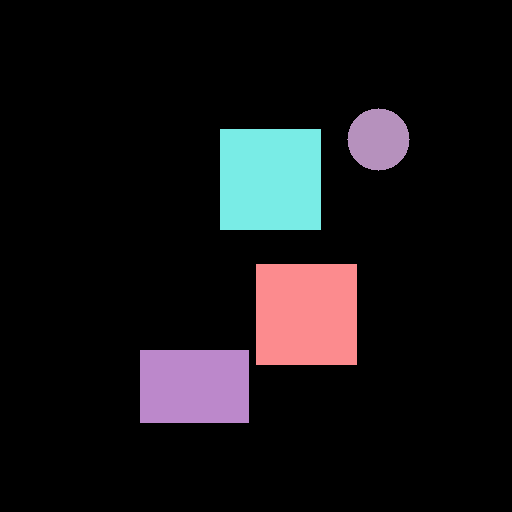circle: (347, 108, 409, 170)
rectangle: (140, 350, 248, 422)
square: (256, 264, 356, 364), (220, 129, 320, 229)
